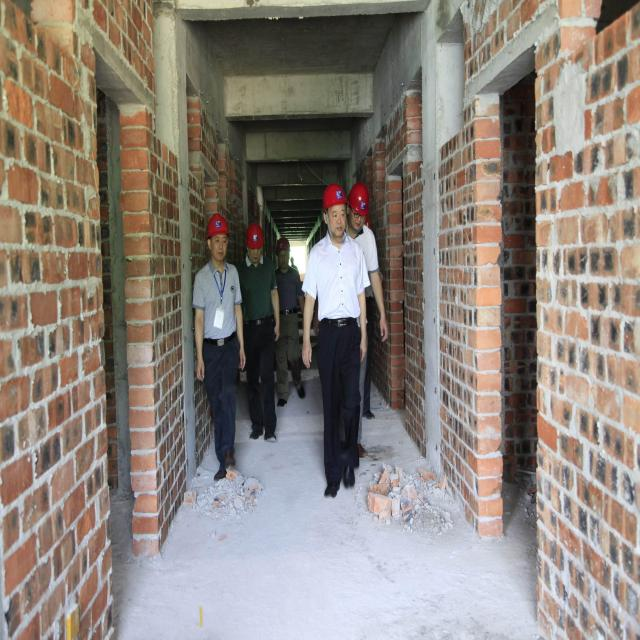boots: (324, 481, 340, 498), (342, 465, 354, 487), (213, 464, 227, 480), (292, 379, 304, 397), (249, 425, 263, 439), (224, 450, 235, 466), (264, 431, 276, 441), (362, 409, 374, 419), (277, 397, 287, 406)
hard-hat: (347, 183, 369, 216), (322, 184, 346, 211), (206, 213, 229, 239), (245, 223, 263, 249), (274, 238, 290, 254)
person: (301, 184, 371, 498), (192, 213, 247, 481), (344, 182, 388, 458), (235, 223, 280, 440), (273, 237, 307, 407)
